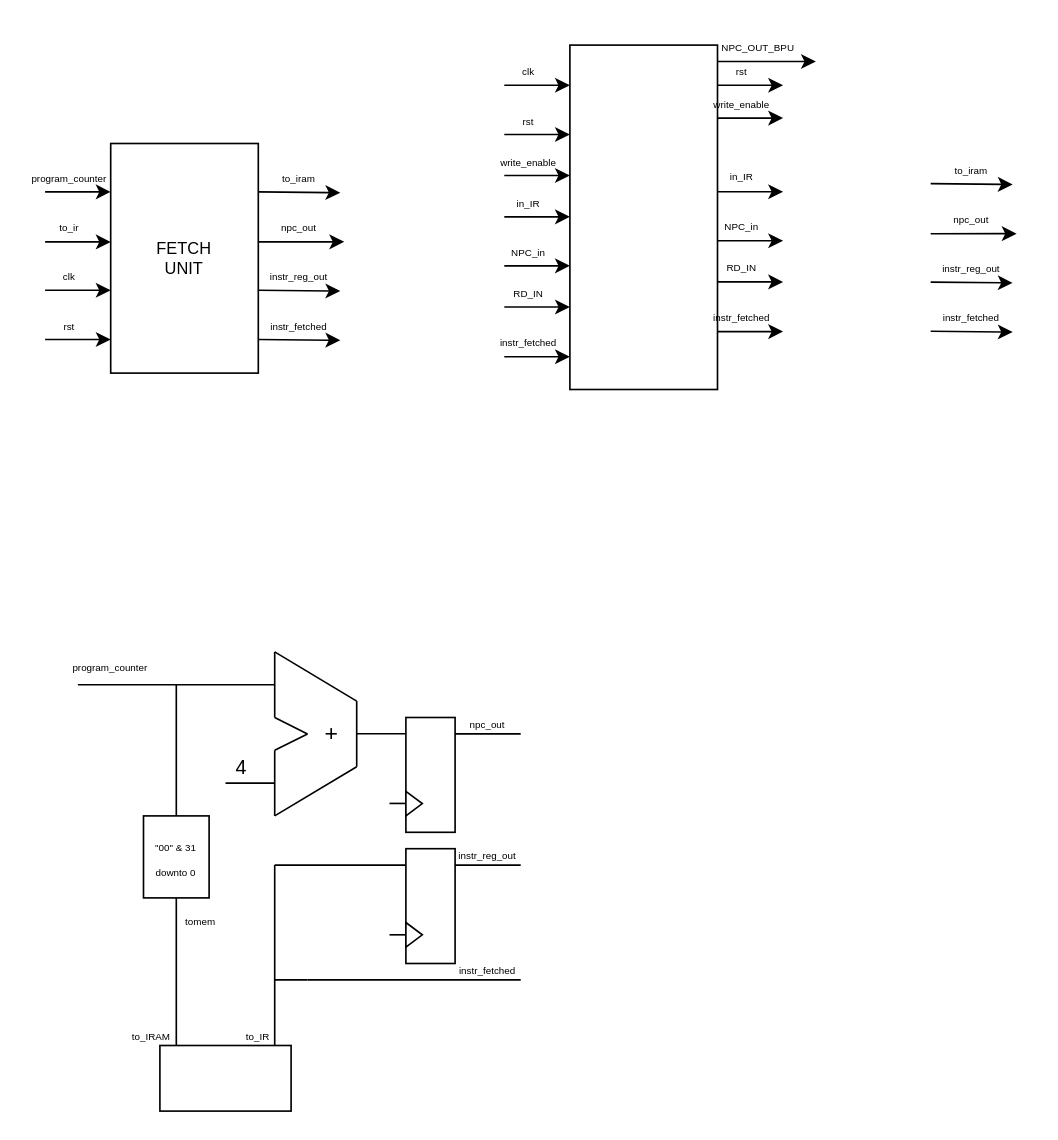
Some shapes in this 1058 by 1140 pixel diagram are drawn without their labels. The shapes that lost their labels are listed below. From the top down, each one's centre as x and y in pixels, then its label:
At [643,216]: "DECODE UNIT".
At [224,1077]: "IRAM".
